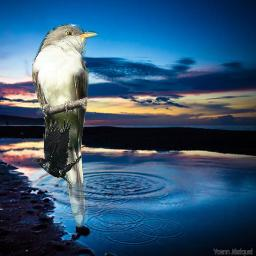Crow: (32, 117, 82, 189)
Cuckoo: (32, 23, 99, 229)
